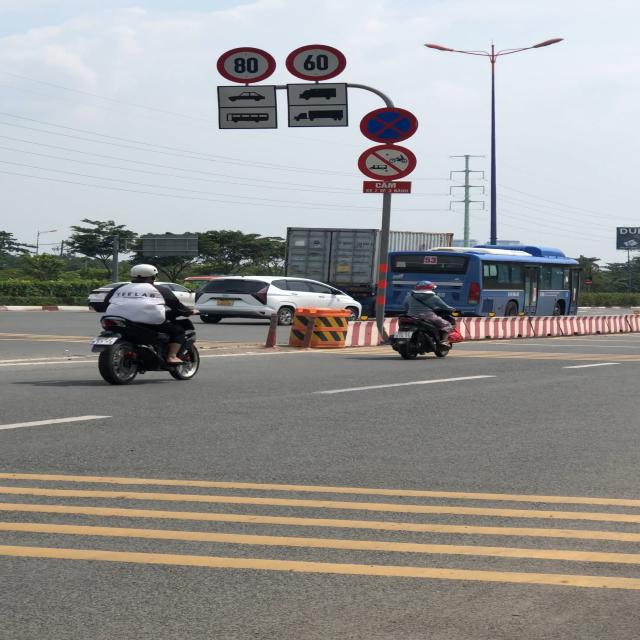Bien bao cam dung xe va do xe: (359, 104, 422, 145)
Bien bao toc do toi da cho phep: (279, 41, 350, 84), (217, 44, 276, 86)
